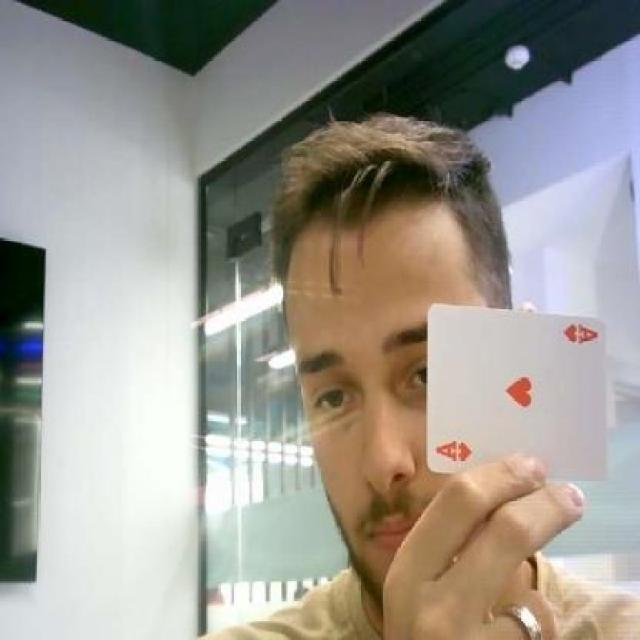AH: (432, 436, 473, 467), (562, 317, 600, 348)
